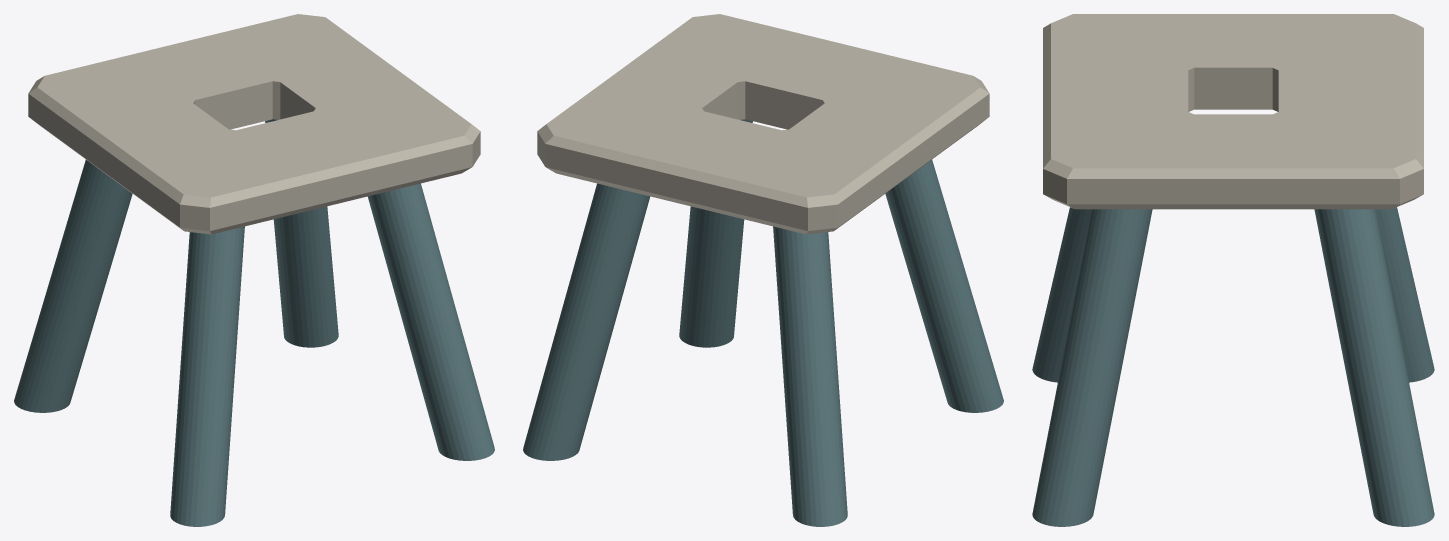
3 views of the same model, side by side, from view 1: azimuth 30°, elevation 25°; view 2: azimuth 150°, elevation 25°; view 3: azimuth 270°, elevation 25° (orthographic). The views are drawn at different scales.
Visible parts, largest first — view 1: WholeBevelledCapWithThroughHatch, WholeBatteredHollowPile_-1_-1, WholeBatteredHollowPile_1_-1, WholeBatteredHollowPile_-1_1, WholeBatteredHollowPile_1_1; view 2: WholeBevelledCapWithThroughHatch, WholeBatteredHollowPile_-1_1, WholeBatteredHollowPile_1_1, WholeBatteredHollowPile_-1_-1, WholeBatteredHollowPile_1_-1; view 3: WholeBevelledCapWithThroughHatch, WholeBatteredHollowPile_1_-1, WholeBatteredHollowPile_1_1, WholeBatteredHollowPile_-1_-1, WholeBatteredHollowPile_-1_1.
Part boxes in pixels (x1,y1,x2,y2): WholeBevelledCapWithThroughHatch: (28,14,480,234); WholeBatteredHollowPile_-1_-1: (170,226,244,526); WholeBatteredHollowPile_1_-1: (367,183,494,460); WholeBatteredHollowPile_-1_1: (14,159,132,412); WholeBatteredHollowPile_1_1: (265,119,338,347); WholeBevelledCapWithThroughHatch: (537,14,989,234); WholeBatteredHollowPile_-1_1: (773,226,847,526); WholeBatteredHollowPile_1_1: (523,183,650,460); WholeBatteredHollowPile_-1_-1: (885,159,1003,412); WholeBatteredHollowPile_1_-1: (679,119,752,347); WholeBevelledCapWithThroughHatch: (1043,14,1423,209); WholeBatteredHollowPile_1_-1: (1032,209,1152,526); WholeBatteredHollowPile_1_1: (1314,209,1434,526); WholeBatteredHollowPile_-1_-1: (1032,207,1091,382); WholeBatteredHollowPile_-1_1: (1375,207,1434,382).
Bounding box in the file's own units: 4.01 × 3.86 × 4.01.
